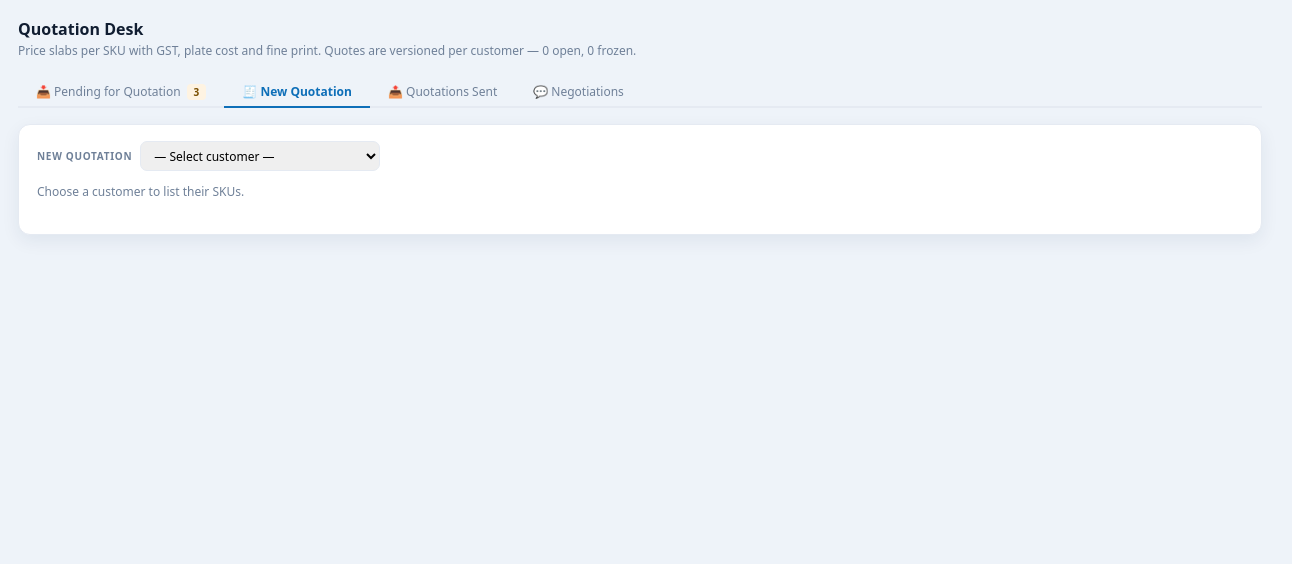
Test: QT1 / QT2 — the desk › Make Quotation ticks the CSA's SKU and never offers another customer's SKUs
Expected: the text "Quotation Desk" is shown, [18,18,143,40]
Click the element with class "step-tab" showing "📥 Pending for Quotation 3" at (121, 92), box [36,83,206,100]
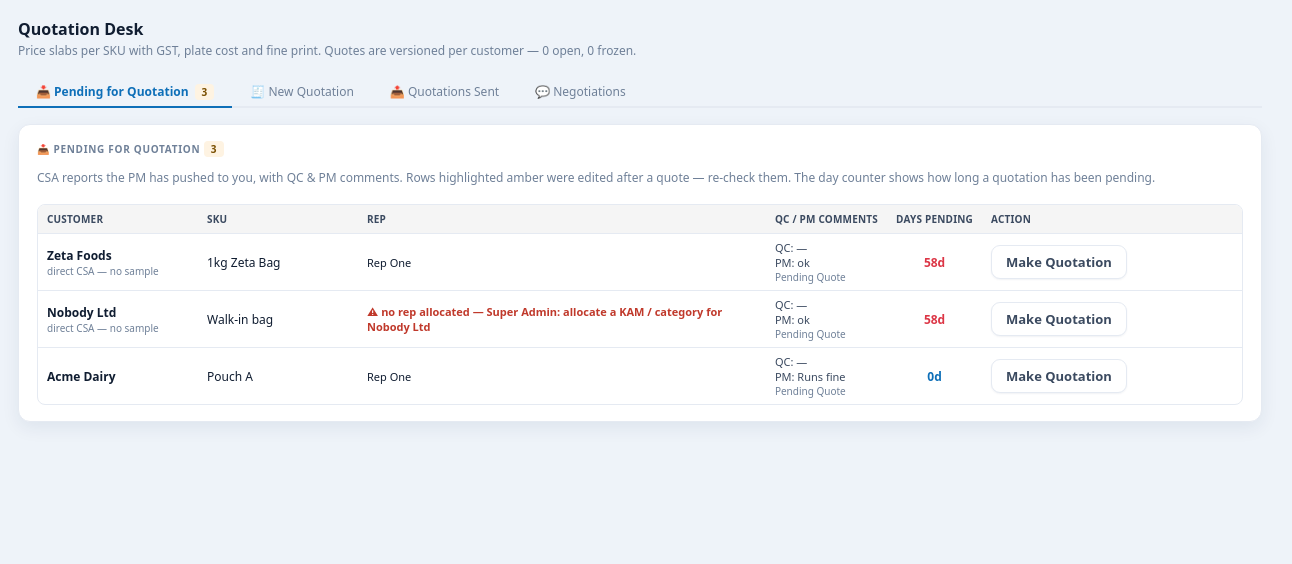
Result: the cell named "Rep for Pouch A" is shown at [358,348,766,404]
Click the button with aria-label "Make quotation for Acme Dairy" at (1059, 376), box [991,359,1127,393]
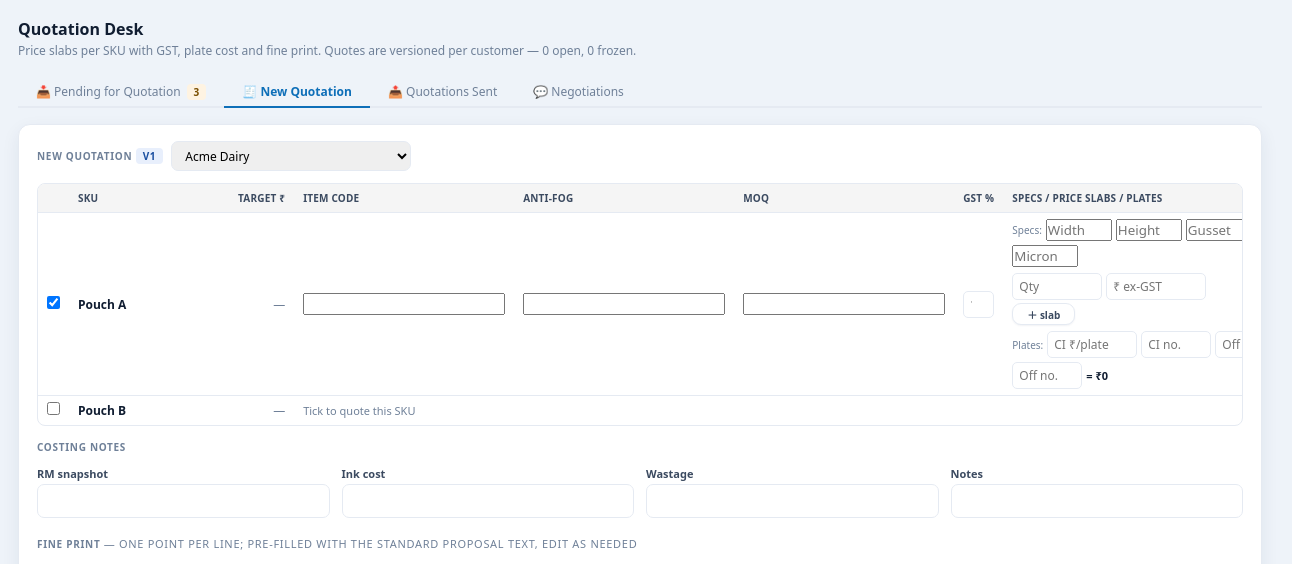
Result: the checkbox named "Quote Pouch A" is checked at [47,296,60,308]
Result: the checkbox named "Quote Pouch B" is not checked at [47,402,60,415]
Result: the field named "Item code S1" is shown at [303,293,505,315]
Select "Empty Co" in the dropdown named "Customer" at (291, 156), box [171,141,411,171]
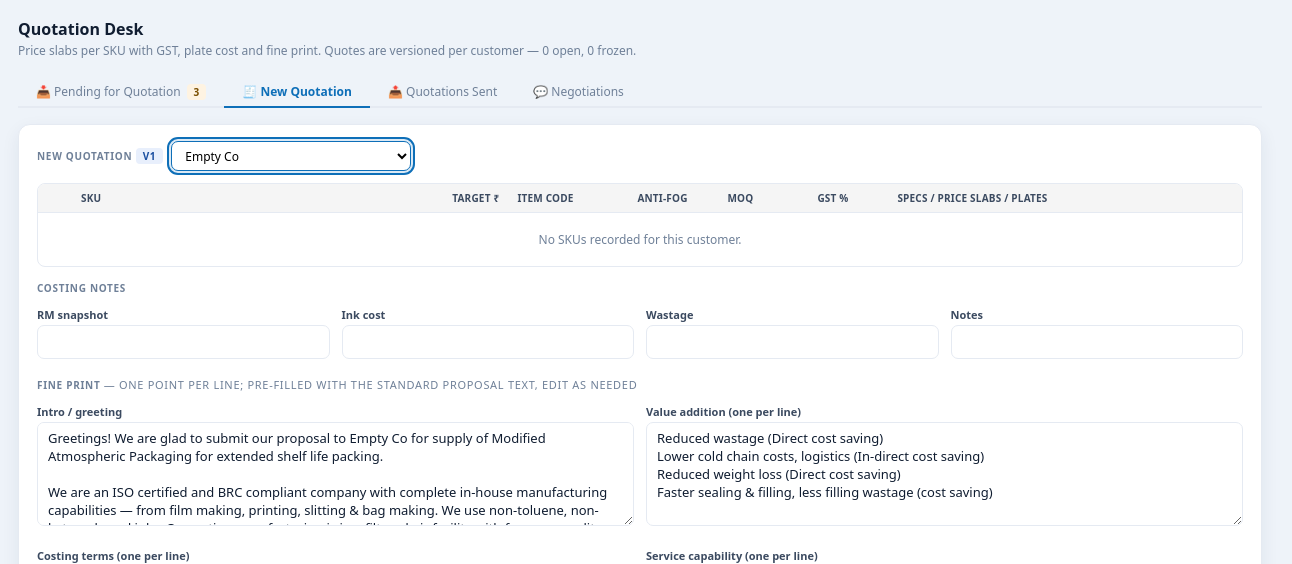
Result: the text "No SKUs recorded for this customer." is shown at [38,212,1242,266]
